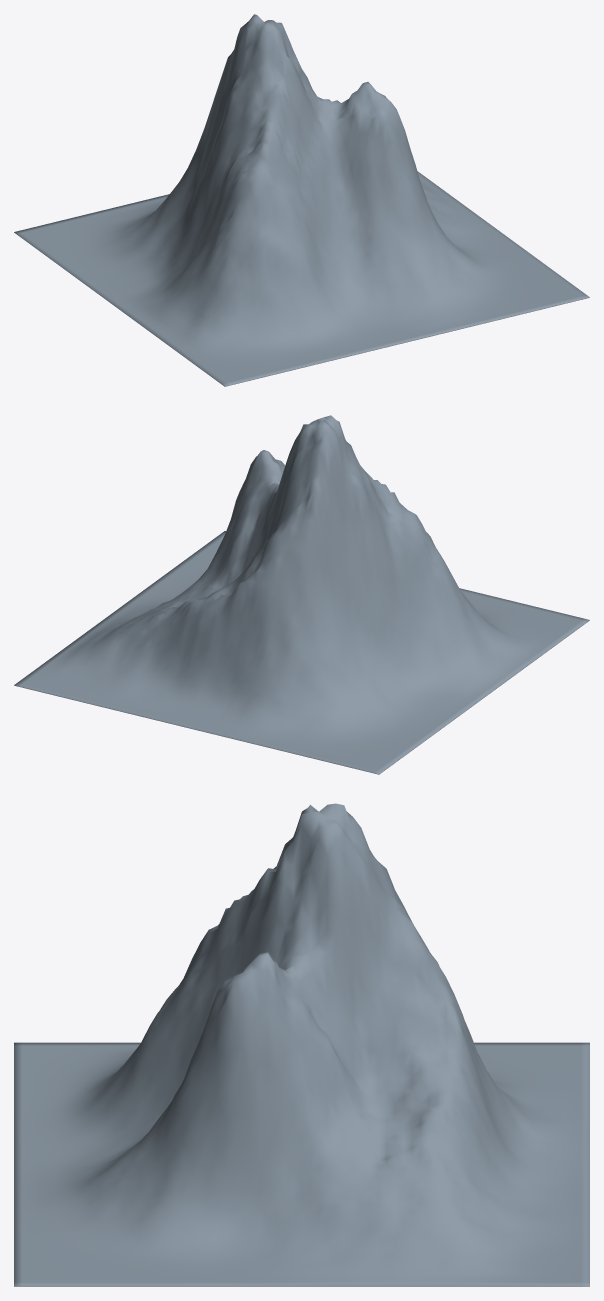
Rendered from SM_PeakB.fbx.
3 renders of one model, top to bottom at view 1: azimuth 30°, elevation 25°; view 2: azimuth 150°, elevation 25°; view 3: azimuth 270°, elevation 25°, orthographic. The views are drawn at different scales.
Parts seen in each view (by area): view 1: SM_PeakB; view 2: SM_PeakB; view 3: SM_PeakB.
Boxes of the visible parts, box(x1,y1,x2,y2) form: SM_PeakB: box(14, 14, 589, 386); SM_PeakB: box(14, 415, 589, 774); SM_PeakB: box(14, 803, 589, 1286).
Size of the model in its own units: 100 by 100 by 65.12.
